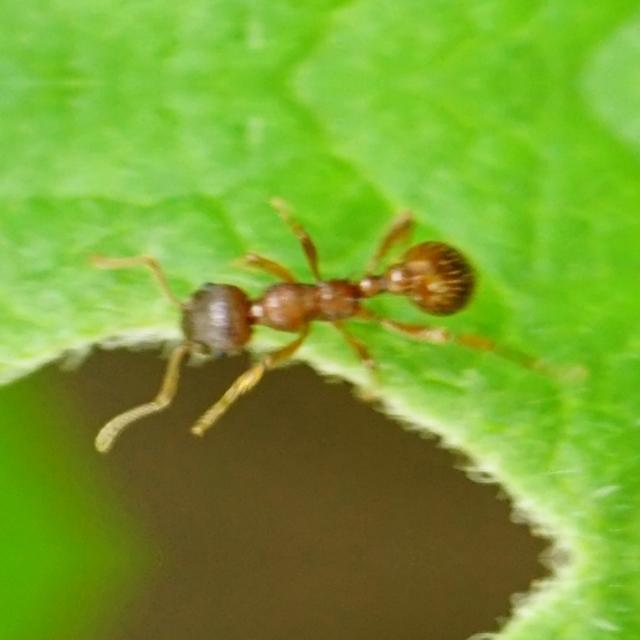Myrmica: (66, 187, 518, 425)
